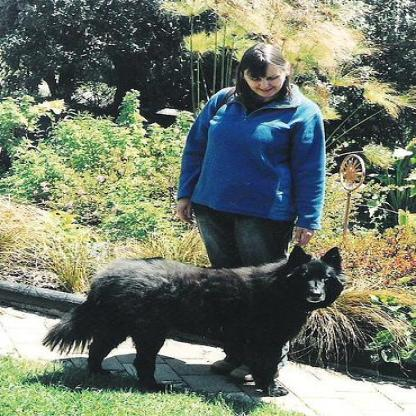groenendael: (41, 240, 345, 392)
